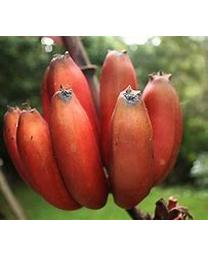banana: (3, 48, 182, 210)
